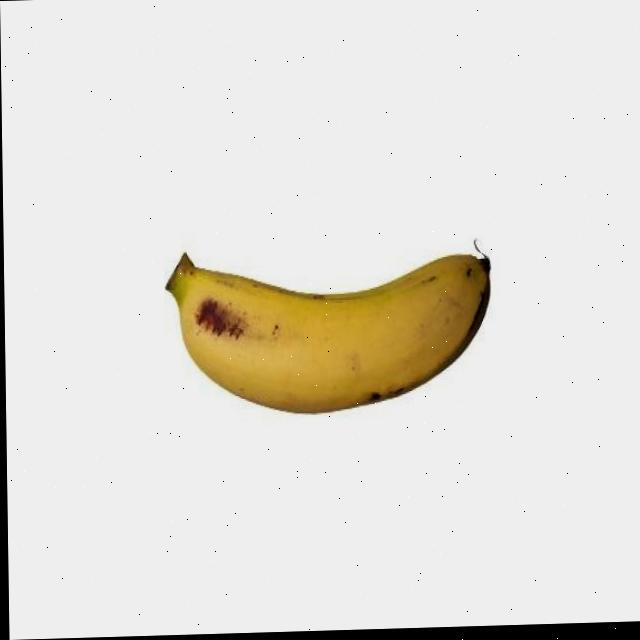banana: (166, 235, 498, 423)
